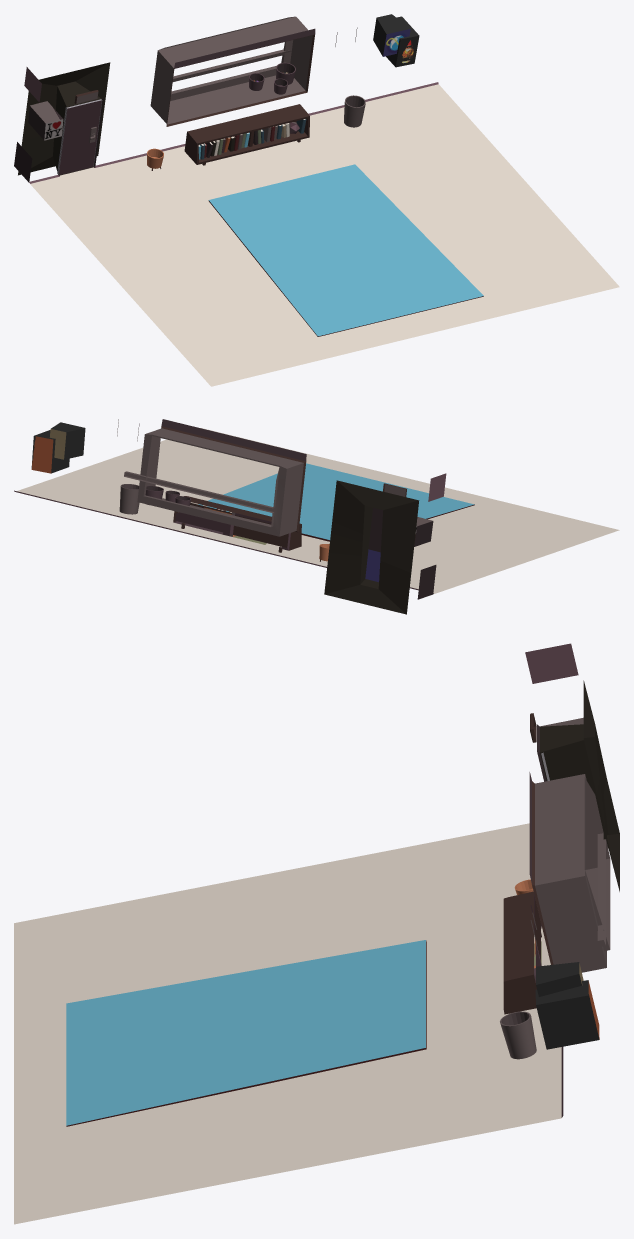
File: HomeAppleWallpaper_Floor.obj
3 renders of one model, top to bottom at view 1: azimuth 30°, elevation 25°; view 2: azimuth 150°, elevation 25°; view 3: azimuth 270°, elevation 25°, orthographic. The views are drawn at different scales.
Visible parts, largest first — view 1: polySurface9 polySurface4 pCube54; view 2: polySurface9 polySurface4 pCube54; view 3: polySurface9 polySurface4 pCube54.
Part boxes in pixels (box(x1,y1,x2,y2)): polySurface9 polySurface4 pCube54: box(14, 14, 619, 386); polySurface9 polySurface4 pCube54: box(14, 419, 619, 614); polySurface9 polySurface4 pCube54: box(14, 643, 619, 1224).
Size of the model in its own units: 17.05 by 7.38 by 14.49.
